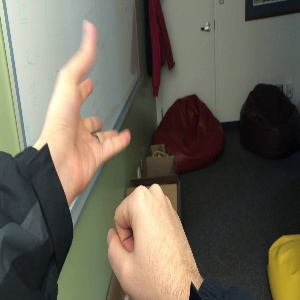hand: (44, 19, 131, 193), (107, 184, 202, 296)
